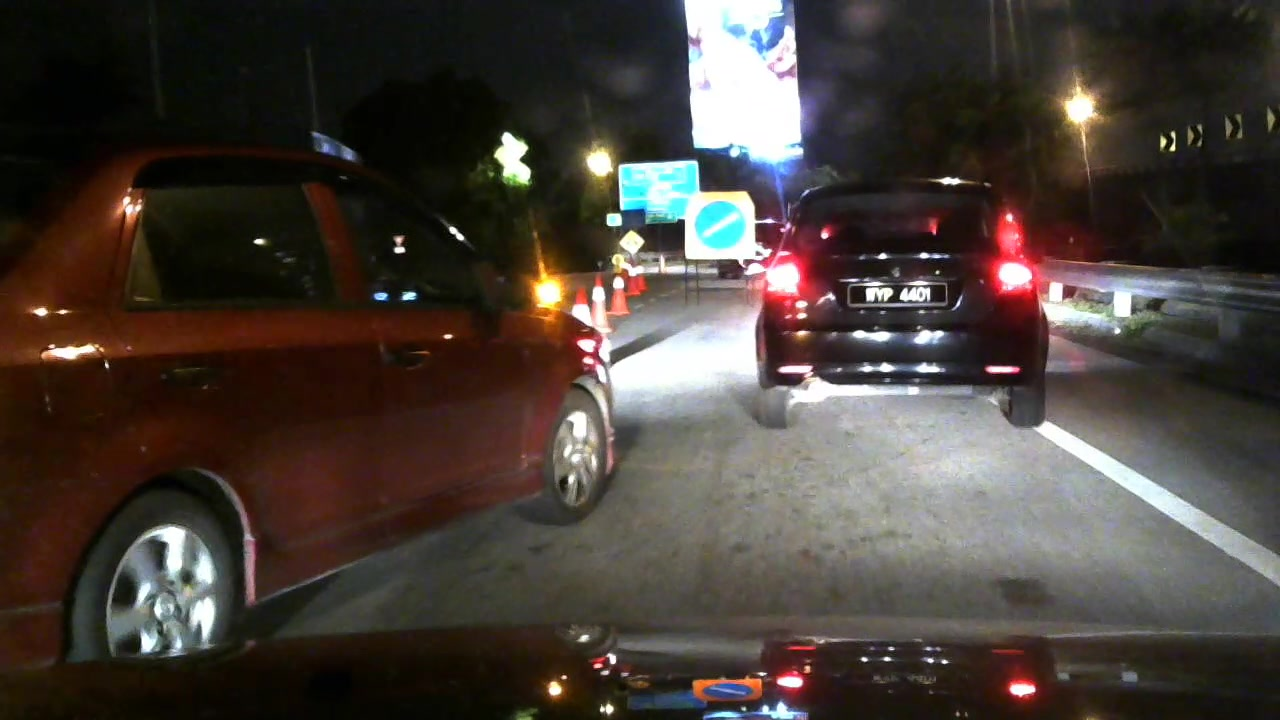Car: (1, 123, 624, 601), (724, 169, 1058, 439)
